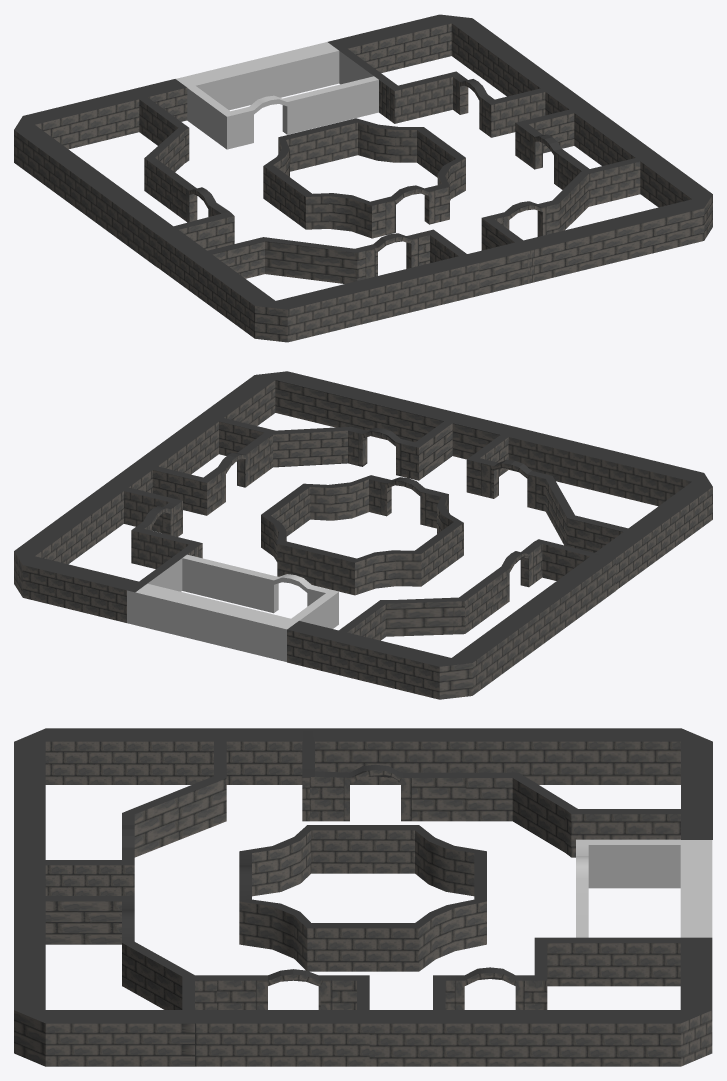
Rendered from cenario_fbx.fbx.
3 views of the same model, one above another, from view 1: azimuth 30°, elevation 25°; view 2: azimuth 150°, elevation 25°; view 3: azimuth 270°, elevation 25° (orthographic). The views are drawn at different scales.
Parts seen in each view (by area): view 1: Cenario_P2, Cenario_P4, Cenario_P1, Cenario_P3, Cenario_Centro, Cenario_P3A, Cenario_P1A; view 2: Cenario_P4, Cenario_P2, Cenario_P1, Cenario_P3, Cenario_Centro, Cenario_P3A, Cenario_P1A; view 3: Cenario_P4, Cenario_P3, Cenario_P2, Cenario_Centro, Cenario_P1, Cenario_P1A, Cenario_P3A.
Boxes of the visible parts, x1,y1,x2,y2 form: Cenario_P2: (157, 229, 479, 342); Cenario_P4: (14, 79, 234, 267); Cenario_P1: (467, 153, 712, 295); Cenario_P3: (328, 14, 589, 137); Cenario_Centro: (263, 118, 465, 238); Cenario_P3A: (176, 42, 378, 149); Cenario_P1A: (515, 104, 655, 189); Cenario_P4: (287, 539, 615, 699); Cenario_P2: (466, 426, 712, 590); Cenario_P1: (198, 371, 511, 480); Cenario_P3: (14, 465, 202, 622); Cenario_Centro: (261, 475, 463, 595); Cenario_P3A: (127, 554, 338, 661); Cenario_P1A: (132, 416, 272, 515); Cenario_P4: (302, 728, 712, 857); Cenario_P3: (369, 937, 712, 1066); Cenario_P2: (14, 728, 302, 895); Cenario_Centro: (239, 825, 486, 971); Cenario_P1: (14, 865, 194, 1066); Cenario_P1A: (195, 969, 369, 1066); Cenario_P3A: (576, 839, 712, 937).
Bounding box in the file's own units: 220 × 17.81 × 220.
